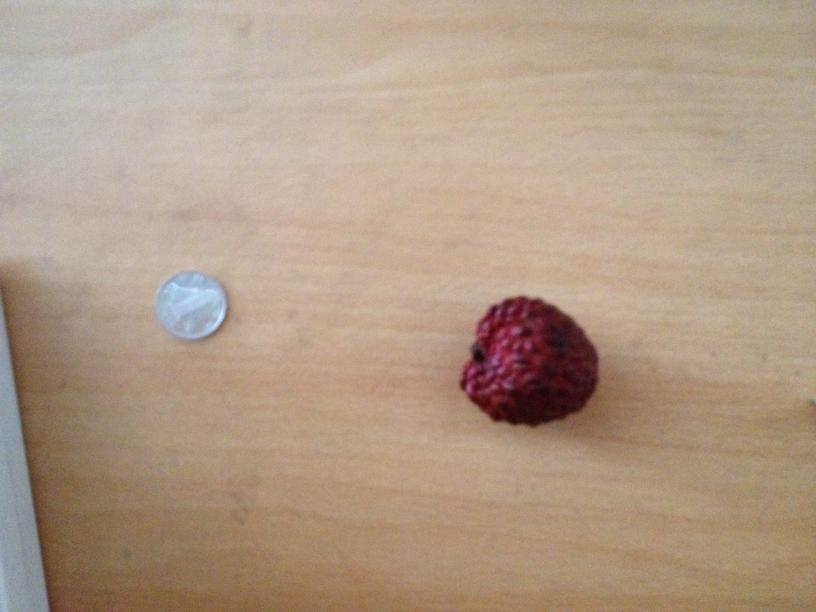coin: (155, 270, 226, 341)
litchi: (459, 295, 600, 425)
